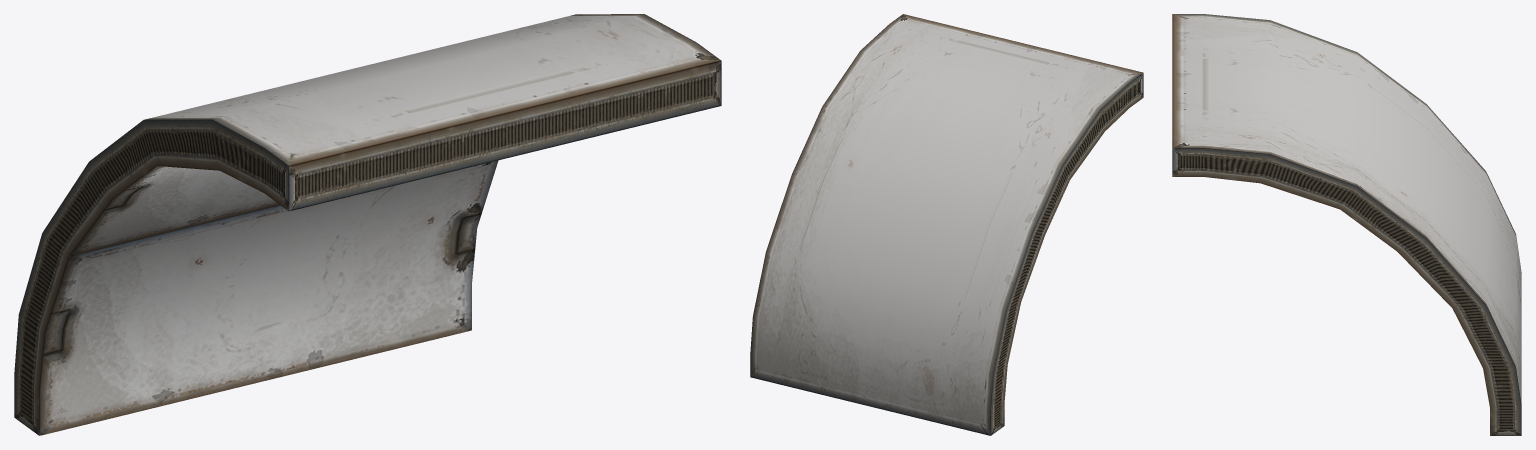
The model's file is scifi_wall_top2_11.FBX.
The picture shows the model from 3 angles, left to right: view 1: azimuth 30°, elevation 25°; view 2: azimuth 150°, elevation 25°; view 3: azimuth 270°, elevation 25°; orthographic projection. The views are drawn at different scales.
Parts seen in each view (by area): view 1: Plane332; view 2: Plane332; view 3: Plane332.
Boxes of the visible parts, <box> form: Plane332: <box>14,14,721,435</box>; Plane332: <box>750,14,1143,435</box>; Plane332: <box>1172,14,1521,435</box>.
Size of the model in its own units: 254 by 254 by 279.
